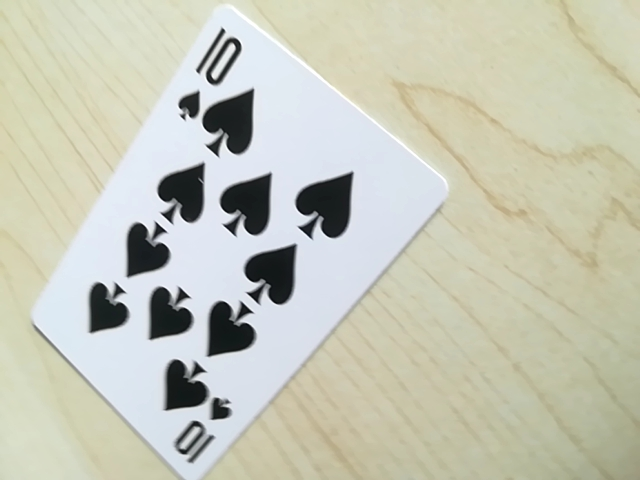ht 10: (172, 15, 248, 137), (161, 403, 237, 472)
